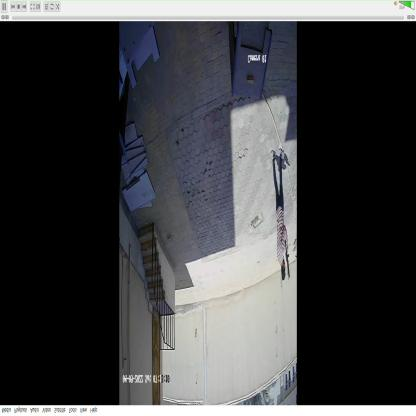handgun: (283, 236, 292, 283)
